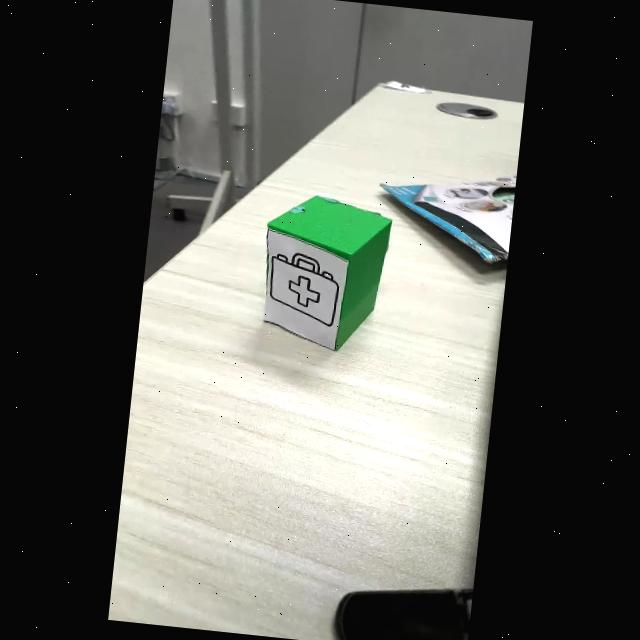Medkit: (269, 253, 339, 327)
